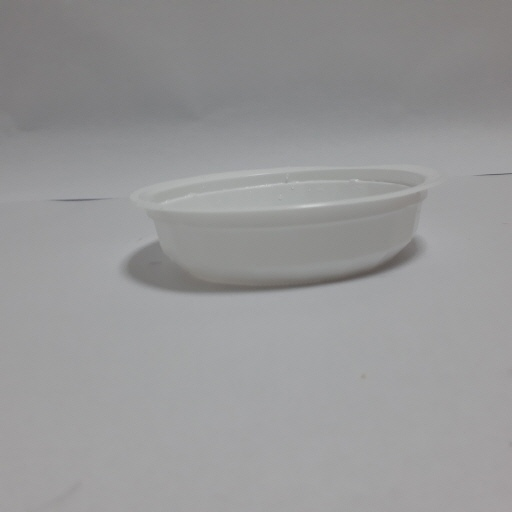Plastic_5: (130, 170, 443, 280)
